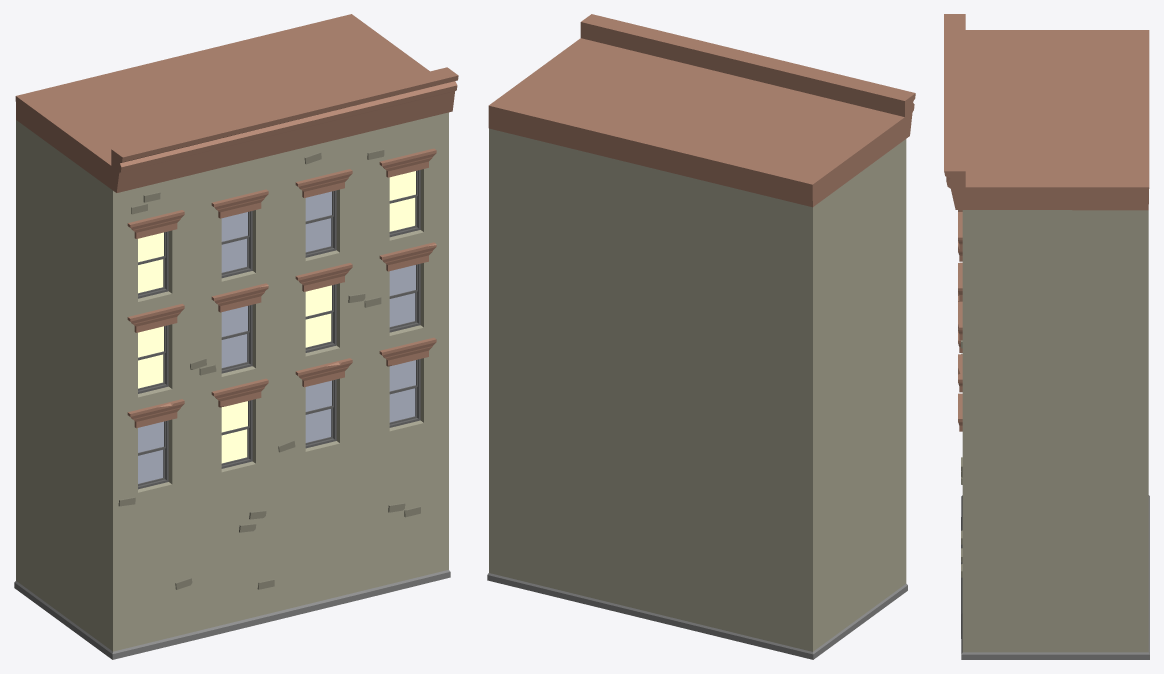
The model's file is building_08.glb.
3 renders of one model, left to right at view 1: azimuth 30°, elevation 25°; view 2: azimuth 150°, elevation 25°; view 3: azimuth 270°, elevation 25°, orthographic. The views are drawn at different scales.
Visible parts, largest first — view 1: green_blank; view 2: green_blank; view 3: green_blank.
Part boxes in pixels (box(x1,y1,x2,y2)): green_blank: box(14, 14, 458, 659); green_blank: box(487, 14, 915, 659); green_blank: box(944, 14, 1149, 659).
Size of the model in its own units: 2.42 by 3.48 by 1.33.
